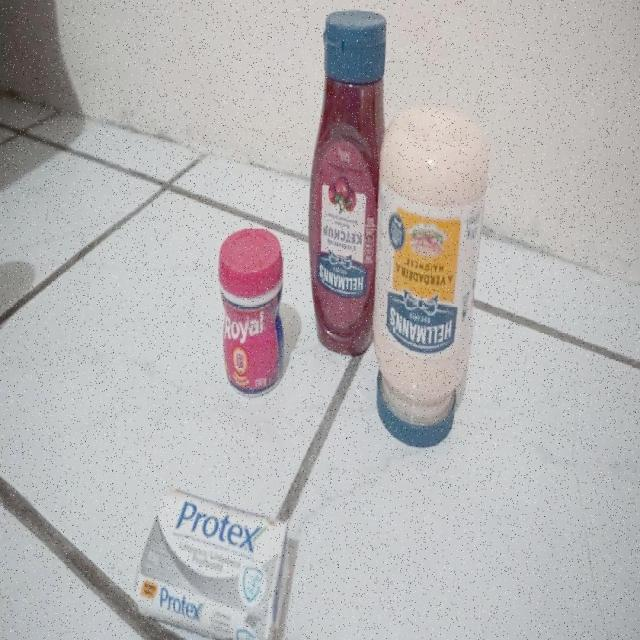Ketchup: (310, 8, 374, 359)
Mayonnaise: (378, 107, 488, 448)
Soap: (136, 484, 289, 640)
Yeast: (216, 224, 286, 394)
